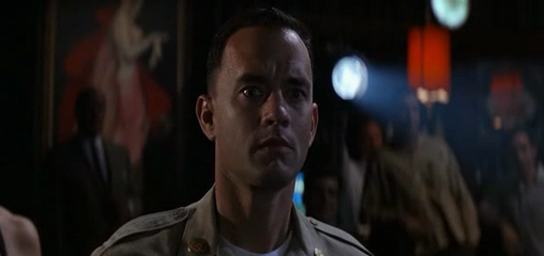cu: (1, 1, 544, 256)
face: (220, 51, 313, 183), (313, 181, 338, 224), (392, 96, 418, 136), (507, 136, 532, 174)
person: (91, 3, 374, 256), (355, 86, 482, 256), (50, 83, 131, 231), (476, 126, 544, 256)
